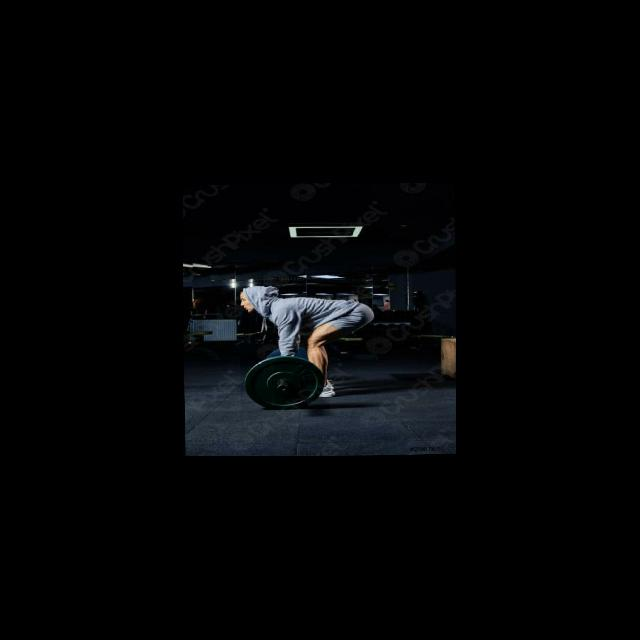barbell: (240, 353, 330, 413)
